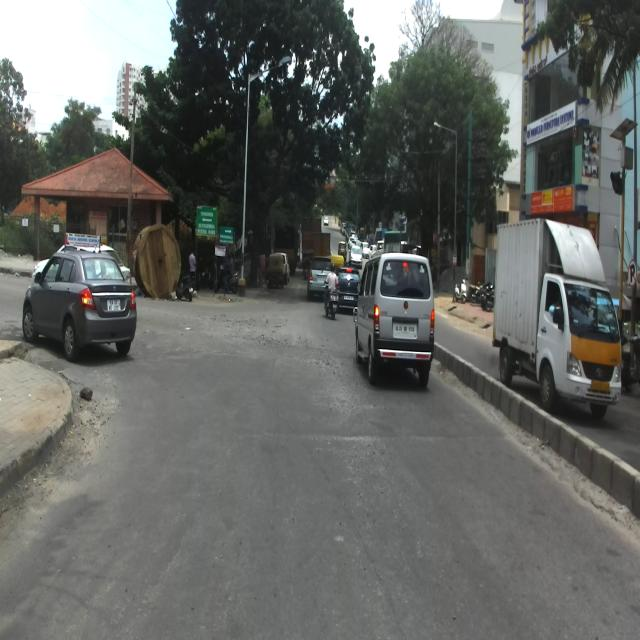car ahead at: (21, 249, 142, 356), (358, 253, 437, 379)
truck ahead at: (489, 218, 629, 418)
